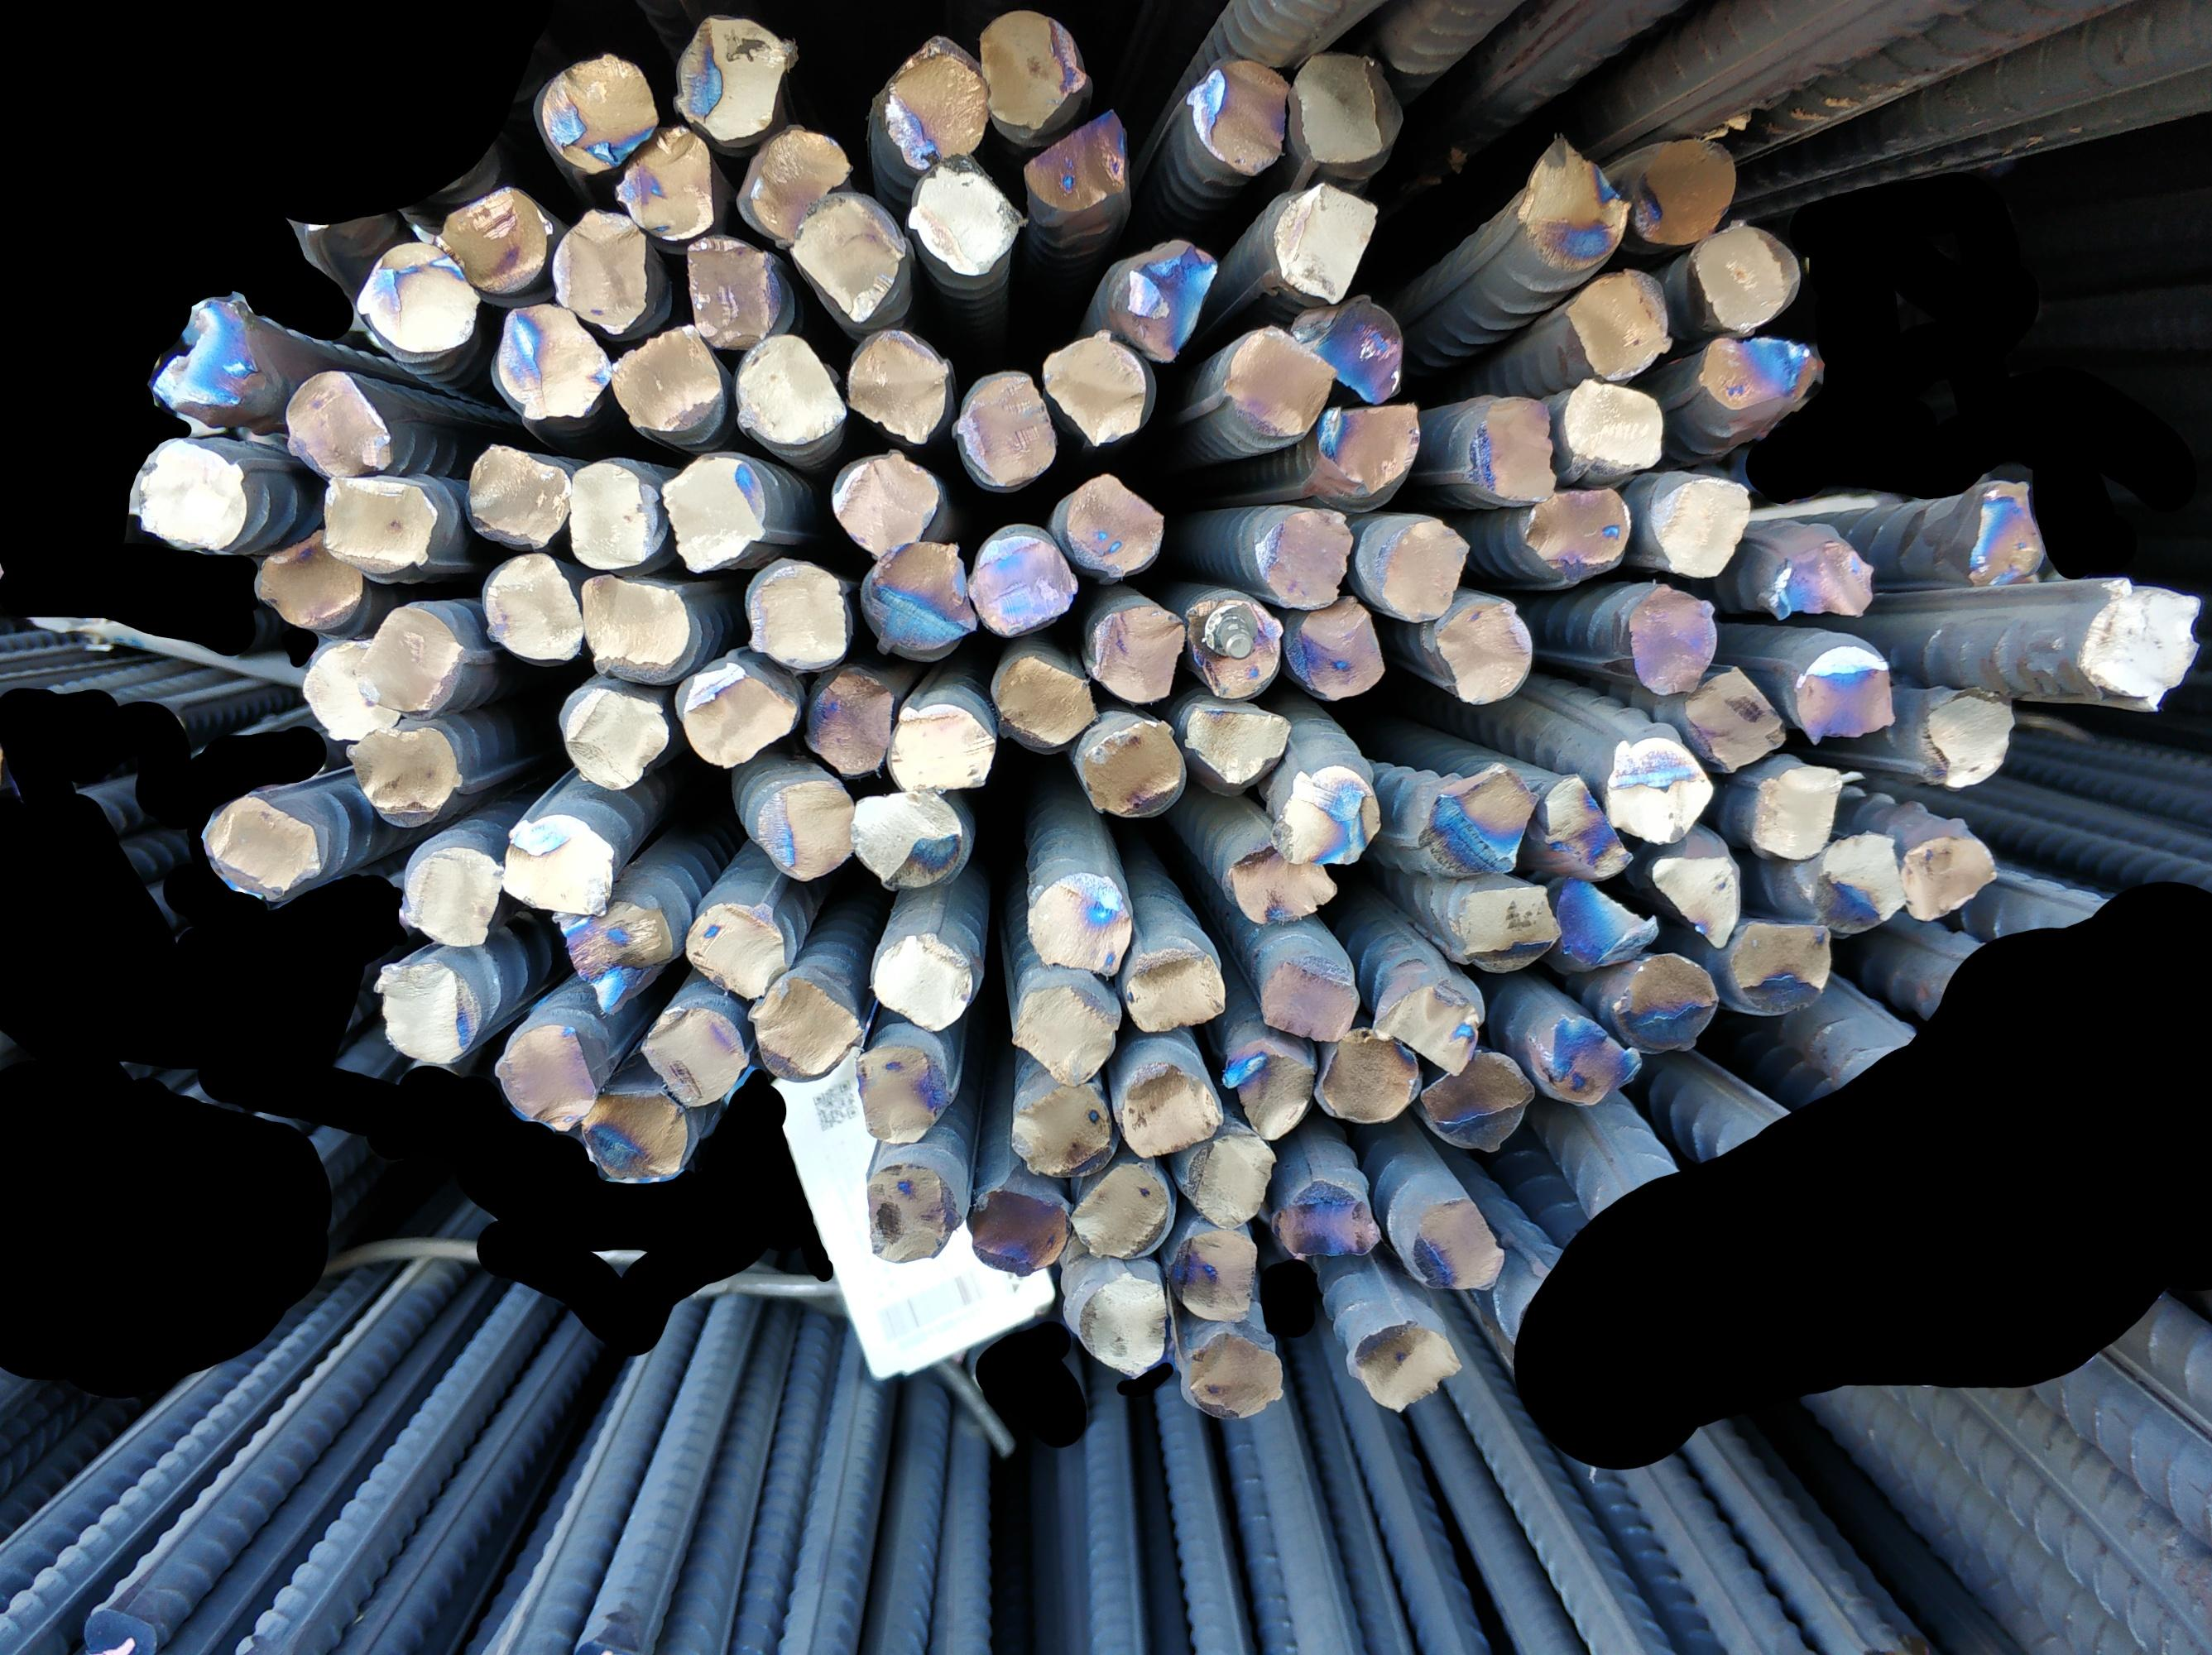bar: (146, 283, 278, 419), (1519, 126, 1634, 276), (353, 238, 484, 361), (785, 189, 905, 324), (538, 50, 662, 176), (130, 435, 254, 559), (909, 154, 1026, 285), (2079, 578, 2200, 704), (652, 449, 772, 574), (197, 788, 324, 904), (1289, 40, 1404, 166), (976, 4, 1089, 132), (679, 655, 797, 777), (549, 199, 656, 333), (554, 893, 670, 1015), (1264, 177, 1379, 301), (883, 31, 986, 169), (1285, 288, 1406, 403), (495, 298, 608, 420), (953, 365, 1062, 492), (834, 323, 948, 444), (348, 598, 465, 716), (1111, 239, 1217, 368), (1038, 325, 1148, 449), (678, 15, 787, 139), (606, 321, 722, 436), (847, 788, 968, 898), (613, 121, 721, 243), (754, 967, 865, 1085), (578, 565, 694, 678), (1628, 129, 1740, 245), (866, 536, 976, 655), (1221, 321, 1332, 439), (1431, 592, 1543, 707), (1024, 108, 1137, 220), (501, 811, 617, 921), (370, 957, 487, 1066), (1423, 763, 1533, 878), (1694, 223, 1807, 334), (479, 546, 587, 663), (1191, 55, 1292, 180), (284, 366, 393, 480), (489, 1020, 597, 1135), (967, 525, 1075, 640), (1602, 732, 1711, 846), (319, 466, 434, 573), (738, 331, 844, 448), (1786, 642, 1903, 747), (750, 124, 849, 247), (345, 728, 463, 832), (824, 444, 935, 554), (1418, 1044, 1526, 1157), (1623, 582, 1726, 698), (561, 682, 670, 792), (1182, 585, 1285, 701), (300, 639, 410, 747), (248, 525, 361, 631), (562, 458, 665, 574), (1278, 588, 1387, 696), (1569, 269, 1676, 380), (466, 439, 572, 550), (748, 561, 854, 673), (681, 231, 778, 353), (437, 185, 546, 292), (1404, 1189, 1512, 1298), (1348, 1319, 1465, 1419), (1062, 472, 1168, 582), (1012, 981, 1123, 1087), (681, 900, 791, 1005), (638, 1002, 745, 1110), (1529, 1010, 1645, 1109), (1683, 666, 1792, 771), (1270, 765, 1380, 868), (1462, 396, 1562, 509), (394, 844, 501, 950), (1257, 499, 1357, 612), (1371, 971, 1485, 1071), (1533, 773, 1638, 880), (1921, 688, 2023, 796), (1607, 949, 1714, 1053), (991, 653, 1101, 753), (869, 931, 975, 1034), (1026, 871, 1132, 975), (1068, 1162, 1173, 1265), (1807, 829, 1907, 938), (804, 666, 896, 783), (1724, 918, 1834, 1015), (1181, 693, 1292, 790), (862, 1158, 957, 1271), (581, 1085, 689, 1184), (1520, 482, 1636, 574), (1559, 378, 1669, 474), (1072, 1271, 1168, 1382), (1119, 1058, 1222, 1158), (1744, 760, 1845, 864), (1183, 1325, 1288, 1424), (1010, 1079, 1115, 1178), (1645, 842, 1738, 953), (886, 698, 992, 796), (1768, 528, 1875, 623), (1699, 333, 1826, 413), (756, 779, 854, 883), (1375, 516, 1470, 623), (1077, 721, 1178, 822), (1227, 837, 1341, 925), (852, 1043, 948, 1147), (1648, 474, 1744, 578), (1090, 602, 1185, 706), (963, 1182, 1068, 1277), (1317, 393, 1418, 490), (1552, 876, 1656, 971), (1120, 945, 1227, 1037), (1456, 881, 1559, 976), (1318, 1027, 1415, 1127), (1902, 825, 1998, 923), (1223, 1044, 1316, 1145), (1259, 957, 1360, 1049), (1273, 1175, 1384, 1256), (1968, 480, 2048, 592), (1173, 1224, 1255, 1326), (1191, 1127, 1266, 1229)
